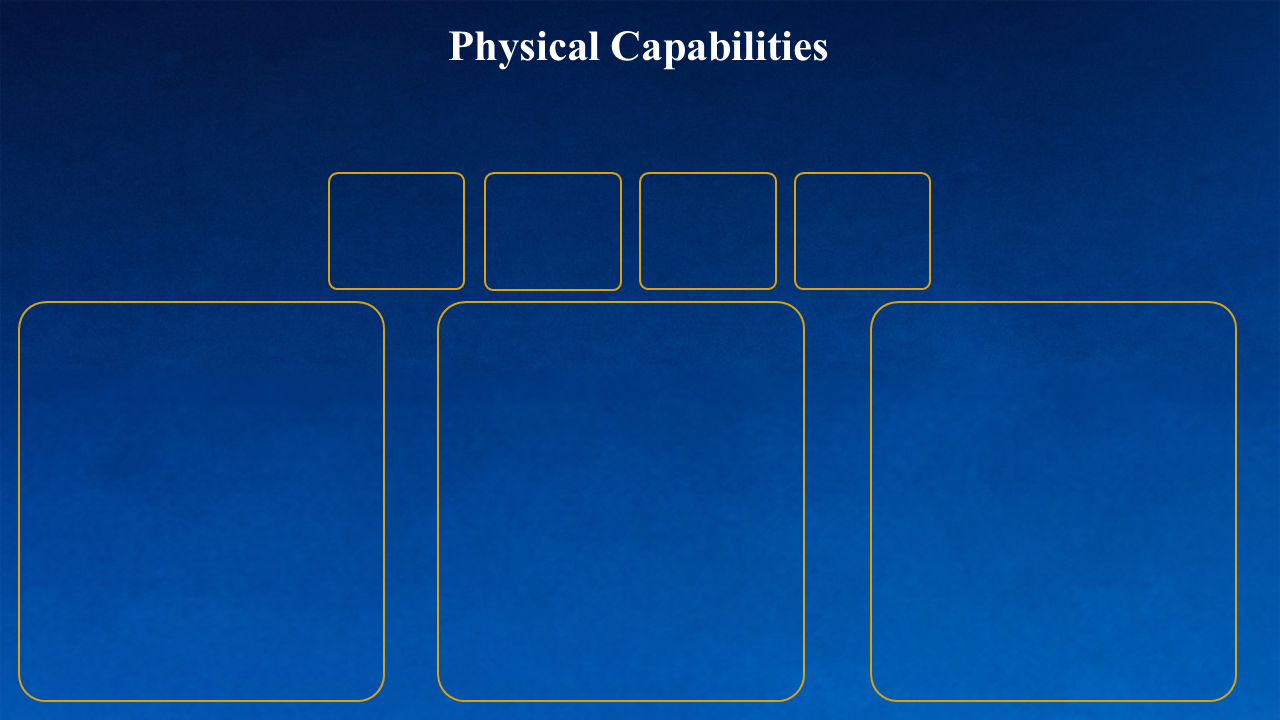

This screenshot's page, from the dashboard's own definition file:
{"tool":"powerbi","page":{"name":"Player Bio","canvas":[1280,720],"ordinal":1},"visuals":[{"type":"actionButton","box":[590.8,131.3,201.1,182.3],"z":1},{"type":"actionButton","box":[850.2,131.3,201.1,182.3],"z":2},{"type":"actionButton","box":[590.8,360.5,201.1,182.3],"z":3},{"type":"actionButton","box":[850.2,360.5,201.1,182.3],"z":4},{"type":"slicer","fields":{"Values":["Players.FullName"]},"box":[916.2,584.6,300.5,108],"z":5},{"type":"card","fields":{"Values":["Min(Players.FirstName)"]},"box":[35,0,161.5,47.7],"z":6},{"type":"card","fields":{"Values":["Min(Players.LastName)"]},"box":[104.1,35,349.2,131.3],"z":7}]}

Visuals, with their boxes in screenshot pixels (x1, y1, x2, y2), scaled from the page's 1280x720 canvas onto the 1280x720 screenshot:
actionButton: [591, 131, 792, 314]
actionButton: [850, 131, 1051, 314]
actionButton: [591, 360, 792, 543]
actionButton: [850, 360, 1051, 543]
slicer - Players.FullName: [916, 585, 1217, 693]
card - Min(Players.FirstName): [35, 0, 196, 48]
card - Min(Players.LastName): [104, 35, 453, 166]
